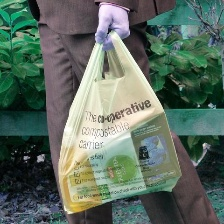plastic_bag: (54, 24, 184, 215)
